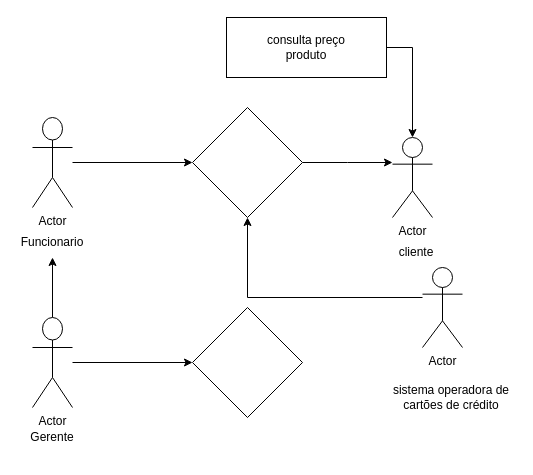
This 533x475 diagram has some shape labels left out. The centre of each missing label's shape, as x and y in pixels:
"Cancela venda" belongs at point (247, 362).
"Realiza venda" belongs at point (247, 162).
